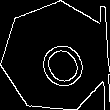O_NW: (24, 24, 88, 90)
